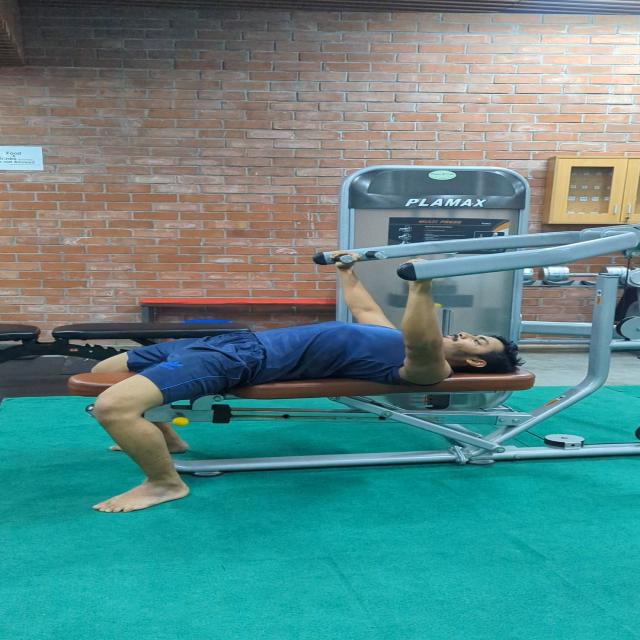Normal_BrenchPress: (71, 241, 559, 517)
